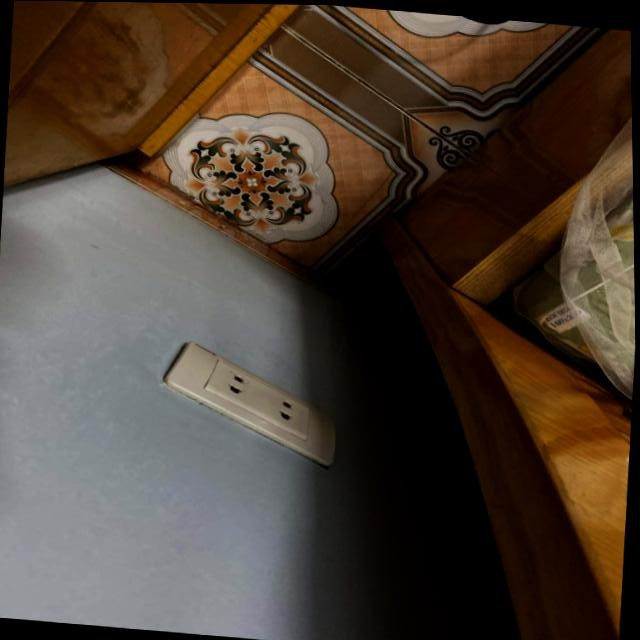outlet: (156, 340, 343, 471)
